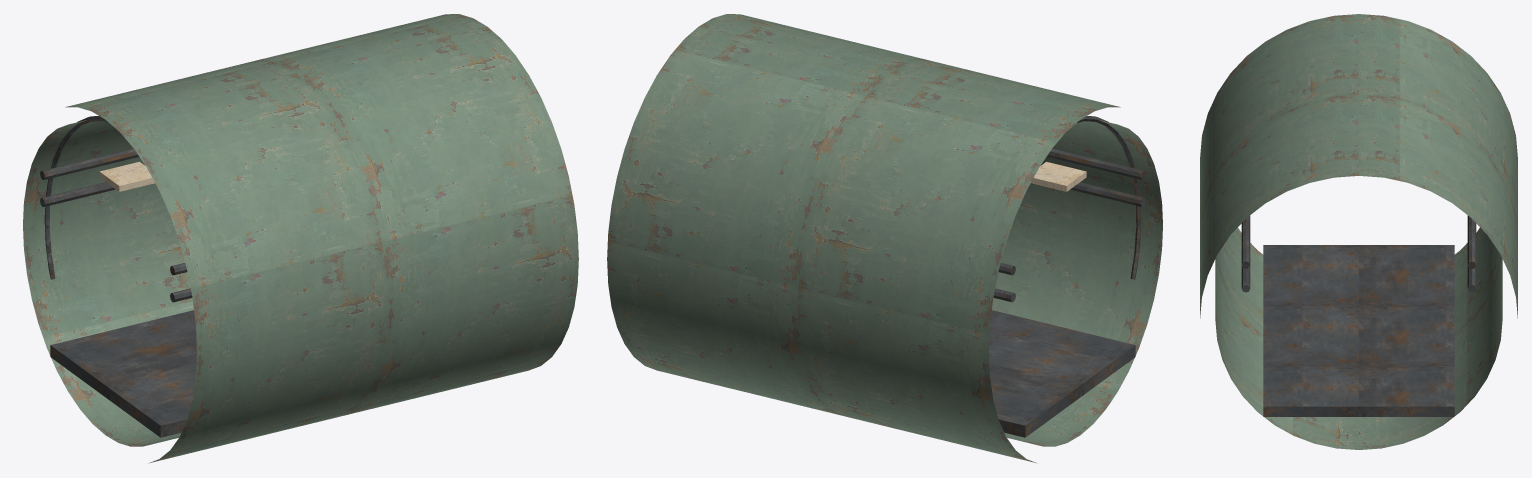
Rendered from silo-cableway.gltf.
The picture shows the model from 3 angles, left to right: view 1: azimuth 30°, elevation 25°; view 2: azimuth 150°, elevation 25°; view 3: azimuth 270°, elevation 25°; orthographic projection. The views are drawn at different scales.
Visible parts, largest first — view 1: component-vault-22-seafoam-0, component-floor-22-steel-1, component-vault-detail-22-steel-2, component-vault-detail-22-ivory-3; view 2: component-vault-22-seafoam-0, component-floor-22-steel-1, component-vault-detail-22-steel-2, component-vault-detail-22-ivory-3; view 3: component-vault-22-seafoam-0, component-floor-22-steel-1, component-vault-detail-22-steel-2.
Boxes of the visible parts, box(x1,y1,x2,y2) form: component-vault-22-seafoam-0: box(23, 14, 578, 463); component-floor-22-steel-1: box(50, 310, 196, 437); component-vault-detail-22-steel-2: box(40, 116, 192, 302); component-vault-detail-22-ivory-3: box(99, 161, 154, 191); component-vault-22-seafoam-0: box(607, 14, 1162, 463); component-floor-22-steel-1: box(989, 310, 1135, 437); component-vault-detail-22-steel-2: box(993, 116, 1145, 302); component-vault-detail-22-ivory-3: box(1031, 161, 1086, 191); component-vault-22-seafoam-0: box(1200, 14, 1517, 449); component-floor-22-steel-1: box(1263, 245, 1454, 416); component-vault-detail-22-steel-2: box(1241, 215, 1476, 292).
Bounding box in the file's own units: 4 × 3.32 × 3.32.
Materials: 3 (3 with a texture image).
